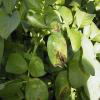Potato leaf late blight: (46, 32, 67, 69), (53, 69, 72, 99), (25, 77, 49, 99), (48, 20, 63, 35)
